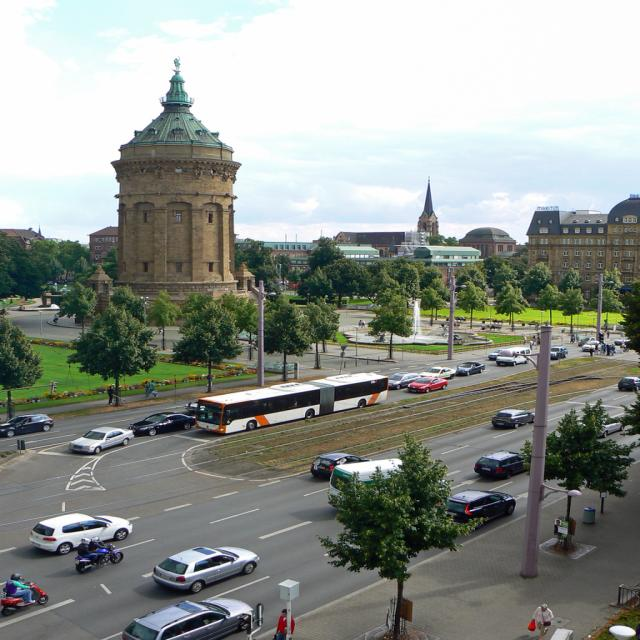car: (153, 543, 254, 590), (72, 427, 131, 453), (411, 380, 446, 396), (498, 347, 525, 367), (459, 362, 485, 377)
